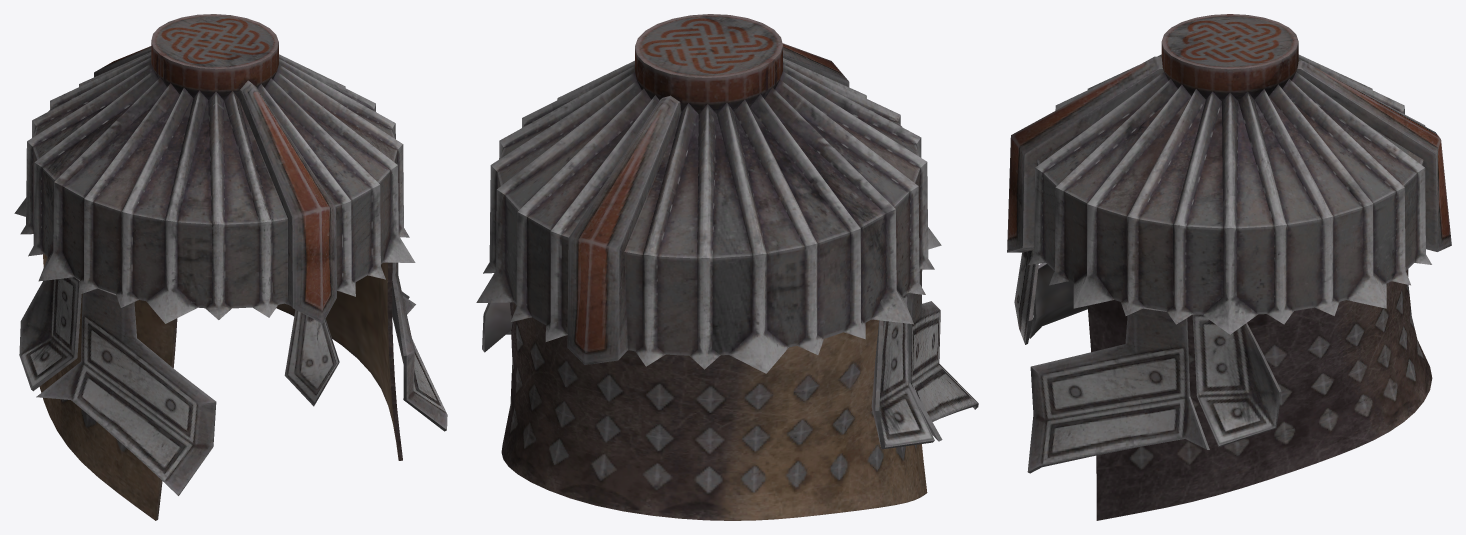
The model's file is sk_dwarf_iron_helmet_med_b1.fbx.
3 views of the same model, side by side, from view 1: azimuth 30°, elevation 25°; view 2: azimuth 150°, elevation 25°; view 3: azimuth 270°, elevation 25° (orthographic). The views are drawn at different scales.
Parts seen in each view (by area): view 1: sk_dwarf_iron_helmet_med_b1; view 2: sk_dwarf_iron_helmet_med_b1; view 3: sk_dwarf_iron_helmet_med_b1.
Part boxes in pixels (x1=…): sk_dwarf_iron_helmet_med_b1: x1=14, y1=14, x2=447, y2=520; sk_dwarf_iron_helmet_med_b1: x1=476, y1=14, x2=978, y2=520; sk_dwarf_iron_helmet_med_b1: x1=1007, y1=14, x2=1451, y2=520.
Size of the model in its own units: 0.3214 by 0.314 by 0.325.
Materials: 1 (1 with a texture image).
